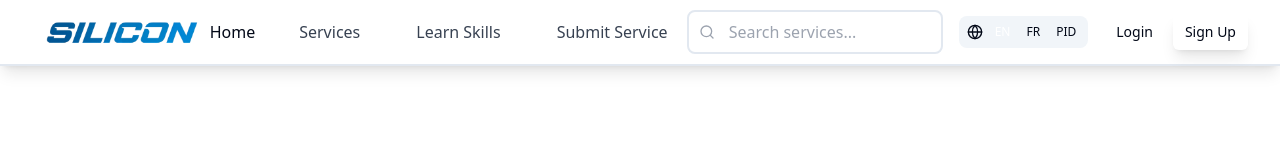
Scenario: Navbar Component › clears suggestions when input is empty
Type "Alpha" into the field with placeholder "Search services..." at (815, 32), box [687, 10, 943, 54]
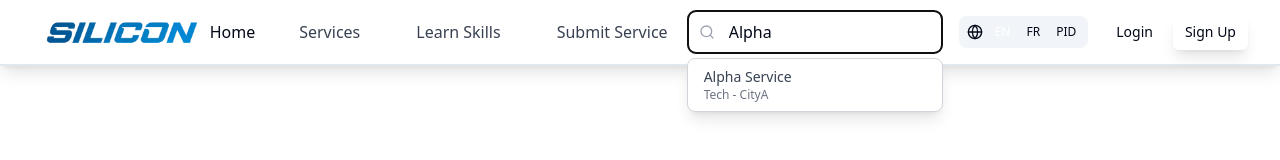
Expected: the list item "Alpha Service" is shown, [704, 67, 792, 86]
Clear the field with placeholder "Search services..." at (815, 32), box [687, 10, 943, 54]
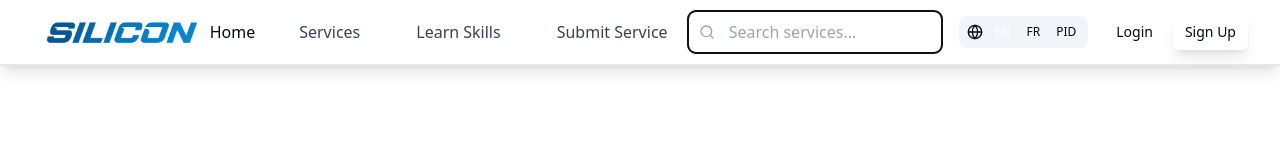
Expected: the list is gone
